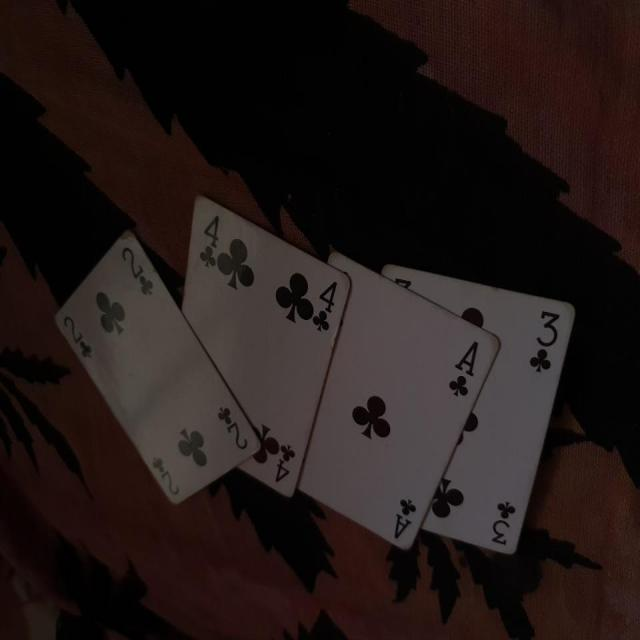2 of clubs: (52, 232, 264, 508)
3 of clubs: (380, 261, 574, 558)
4 of clubs: (180, 192, 352, 500)
ace of clubs: (298, 248, 502, 550)
